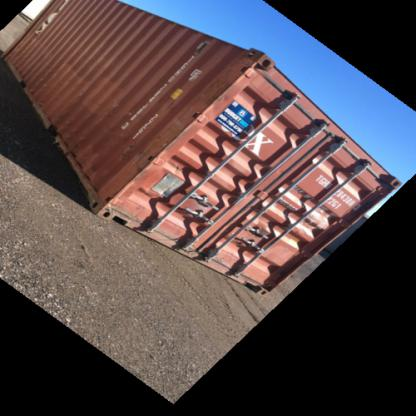Damage: (148, 109, 188, 157), (198, 67, 224, 113), (112, 196, 142, 230), (120, 134, 144, 158), (42, 115, 62, 140), (107, 97, 125, 113)
